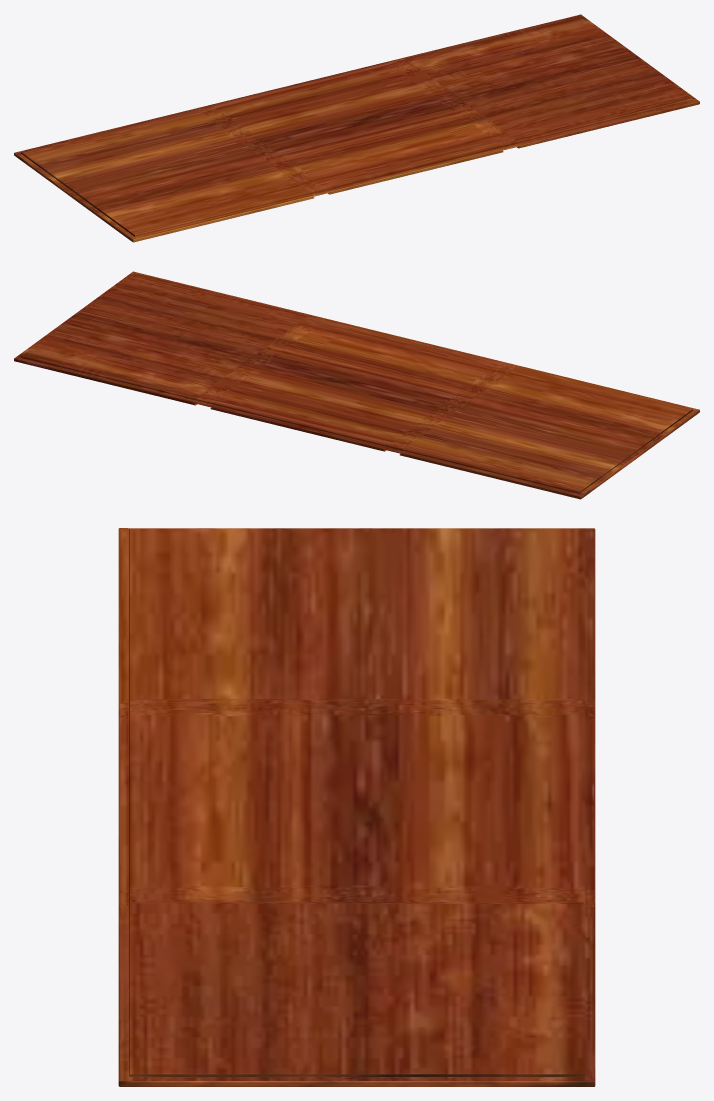
The model's file is SJ_J_cengban_02.FBX.
3 renders of one model, top to bottom at view 1: azimuth 30°, elevation 25°; view 2: azimuth 150°, elevation 25°; view 3: azimuth 270°, elevation 25°, orthographic. The views are drawn at different scales.
Visible parts, largest first — view 1: SJ_J_cengban_02; view 2: SJ_J_cengban_02; view 3: SJ_J_cengban_02.
Boxes of the visible parts, box(x1,y1,x2,y2) form: SJ_J_cengban_02: box(14, 14, 699, 242); SJ_J_cengban_02: box(14, 271, 699, 499); SJ_J_cengban_02: box(118, 528, 595, 1086).
Size of the model in its own units: 101 by 0.8 by 36.6.
